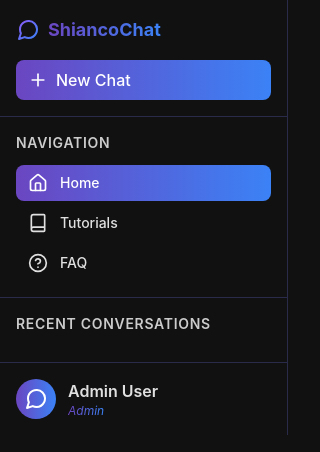
Test: Sidebar admin route visibility › shows Admin Panel link for admin users
Open the profile dropdown
Click the text "Admin User".
click(113, 391)  # box [68,379,158,403]
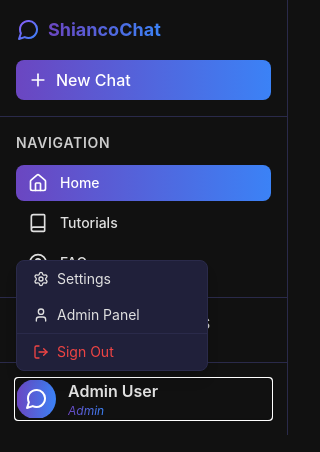
expect the text "Admin Panel" is shown: met, box [57,305,140,325]
